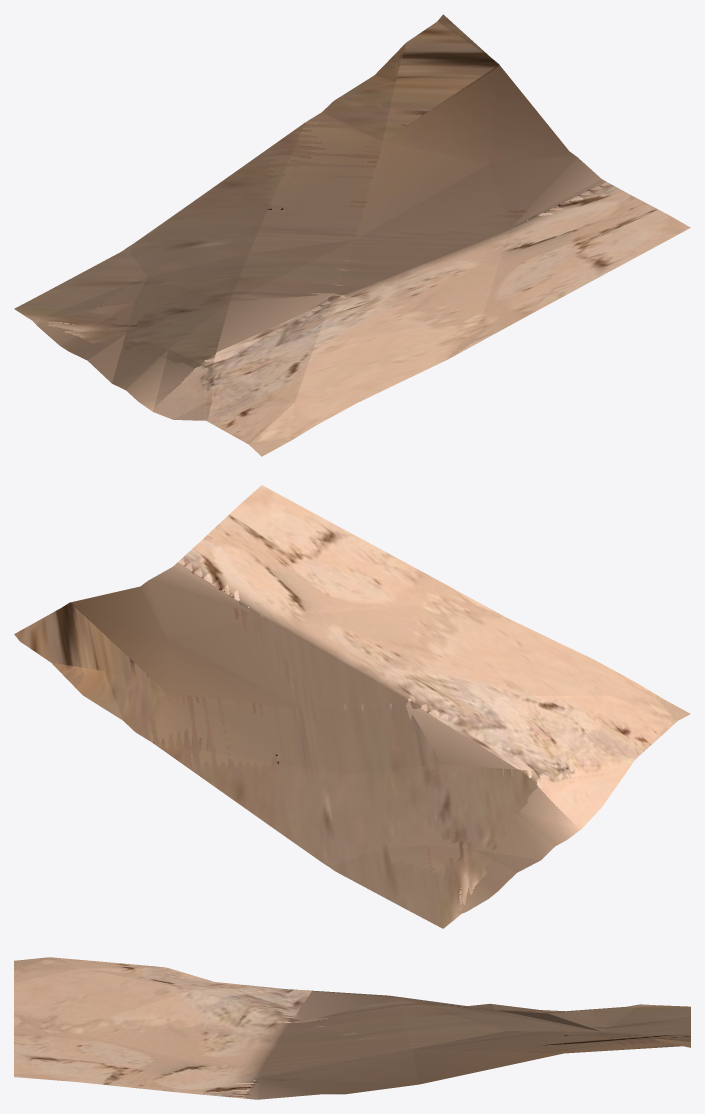
The picture shows the model from 3 angles, top to bottom: view 1: azimuth 30°, elevation 25°; view 2: azimuth 150°, elevation 25°; view 3: azimuth 270°, elevation 25°; orthographic projection. The views are drawn at different scales.
Bounding box in the file's own units: 1.04 × 0.4495 × 1.04.
3 materials, 3 textured.
